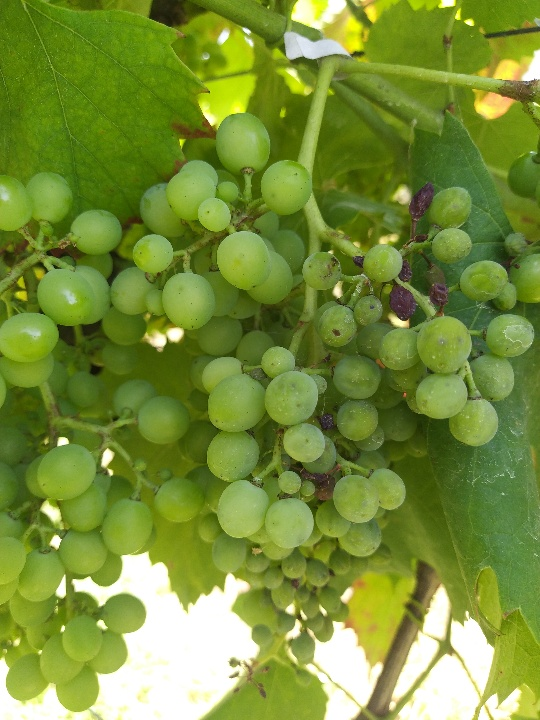grape: (111, 111, 536, 576)
